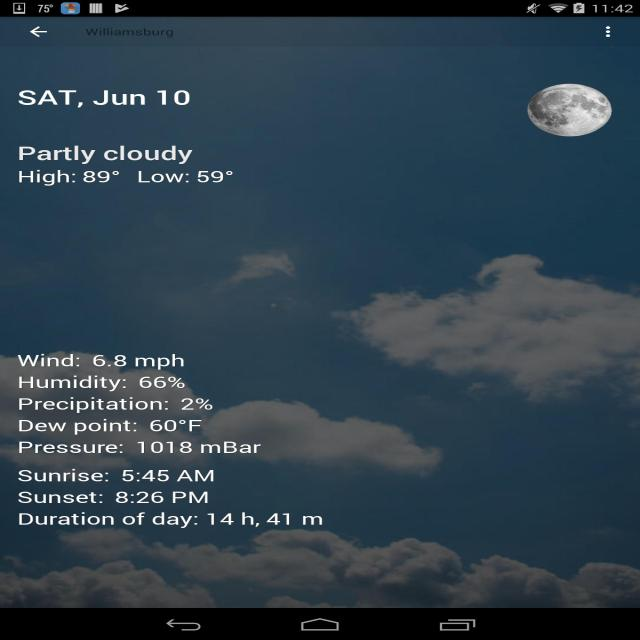button: (26, 23, 50, 41), (604, 23, 613, 40)
heading: (84, 26, 174, 42)
image: (4, 17, 640, 609), (530, 84, 612, 138)
text: (11, 351, 326, 530), (17, 144, 234, 188), (19, 87, 197, 111)
